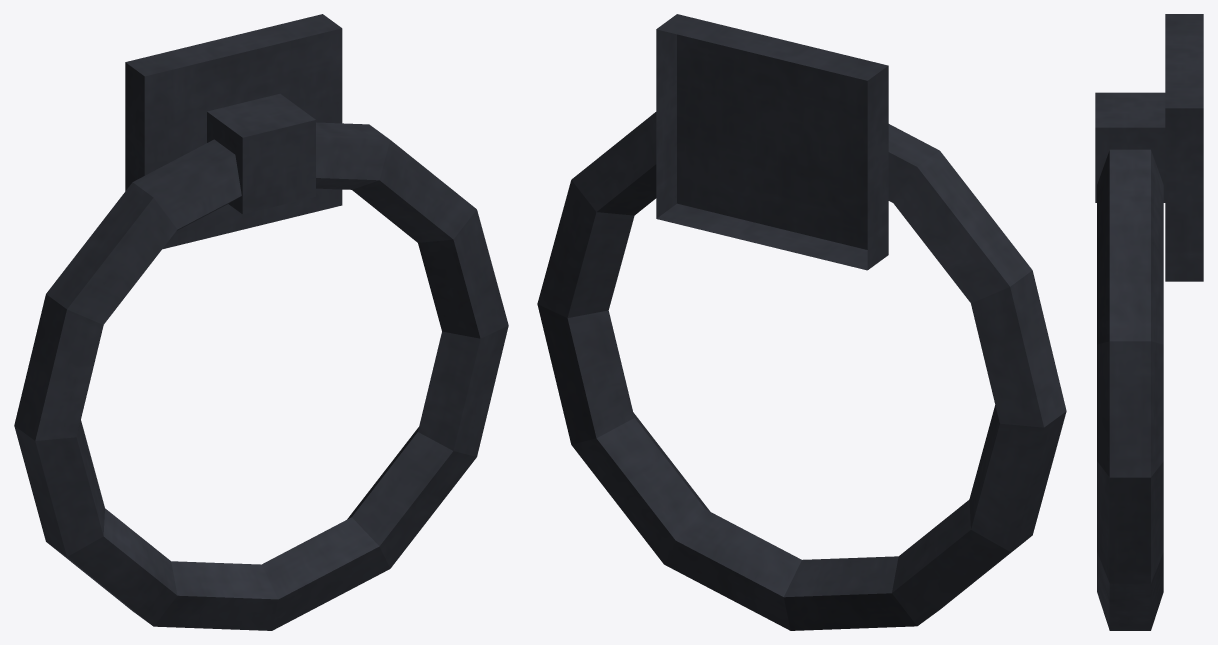
File: slab_ring.obj
3 renders of one model, left to right at view 1: azimuth 30°, elevation 25°; view 2: azimuth 150°, elevation 25°; view 3: azimuth 270°, elevation 25°, orthographic. The views are drawn at different scales.
Visible parts, largest first — view 1: slab_ring; view 2: slab_ring; view 3: slab_ring.
Boxes of the visible parts, x1,y1,x2,y2 form: slab_ring: (14, 14, 508, 630); slab_ring: (537, 14, 1066, 630); slab_ring: (1095, 14, 1203, 630).
Bounding box in the file's own units: 0.1678 × 0.1889 × 0.034.
Materials: 1 (1 with a texture image).
